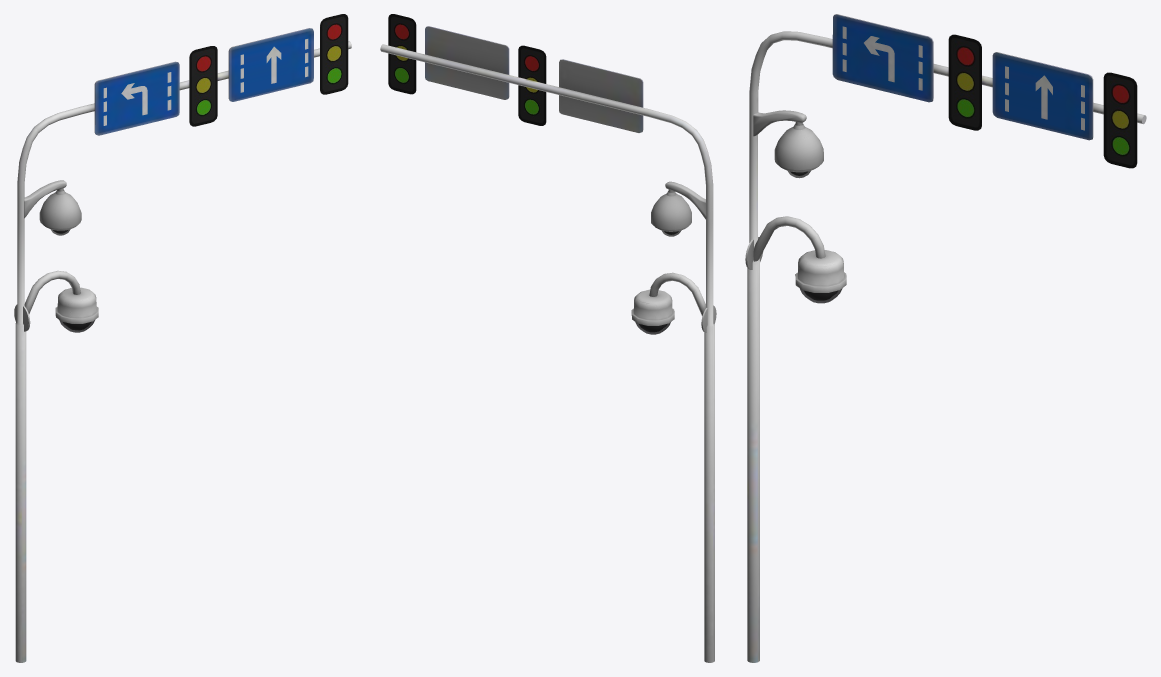
Rendered from honglvdengcamera.glb.
3 views of the same model, side by side, from view 1: azimuth 30°, elevation 25°; view 2: azimuth 150°, elevation 25°; view 3: azimuth 330°, elevation 25° (orthographic). The views are drawn at different scales.
Parts seen in each view (by area): view 1: SM_honglvdeng_04, SM_shexiangtou_01, SM_shexiangtou_05; view 2: SM_honglvdeng_04, SM_shexiangtou_01, SM_shexiangtou_05; view 3: SM_honglvdeng_04, SM_shexiangtou_01, SM_shexiangtou_05.
Part boxes in pixels (<box>): SM_honglvdeng_04: <box>15,14,351,662</box>; SM_shexiangtou_01: <box>14,270,98,332</box>; SM_shexiangtou_05: <box>24,180,81,235</box>; SM_honglvdeng_04: <box>380,14,714,662</box>; SM_shexiangtou_01: <box>631,272,716,334</box>; SM_shexiangtou_05: <box>651,181,706,236</box>; SM_honglvdeng_04: <box>747,14,1146,662</box>; SM_shexiangtou_01: <box>745,216,846,303</box>; SM_shexiangtou_05: <box>753,110,823,178</box>.
Size of the model in its own units: 4 by 6.53 by 0.4579.
Materials: 5 (3 with a texture image).
